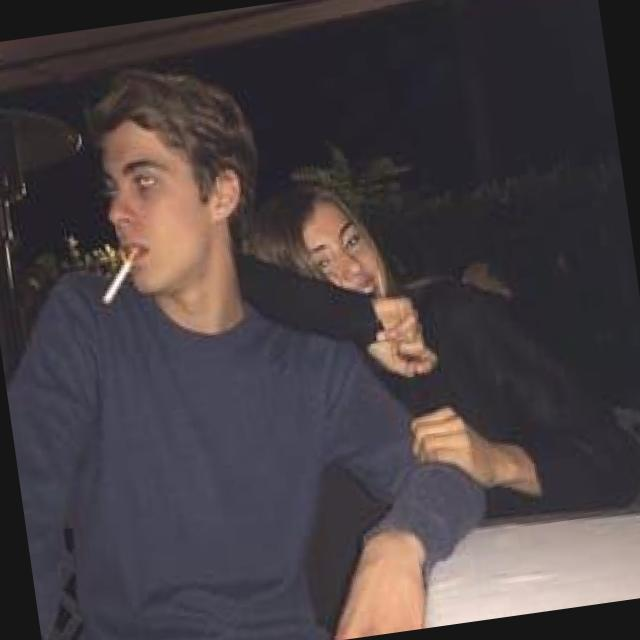cigarette: (88, 236, 154, 318)
